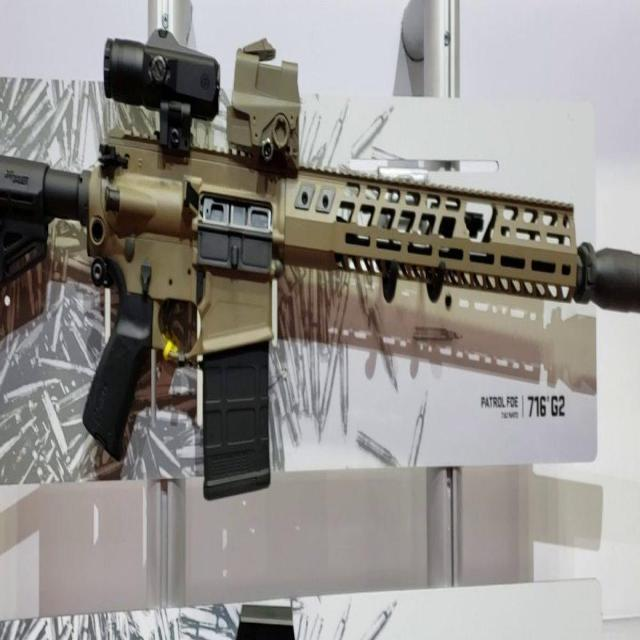weapon: (4, 18, 639, 509)
